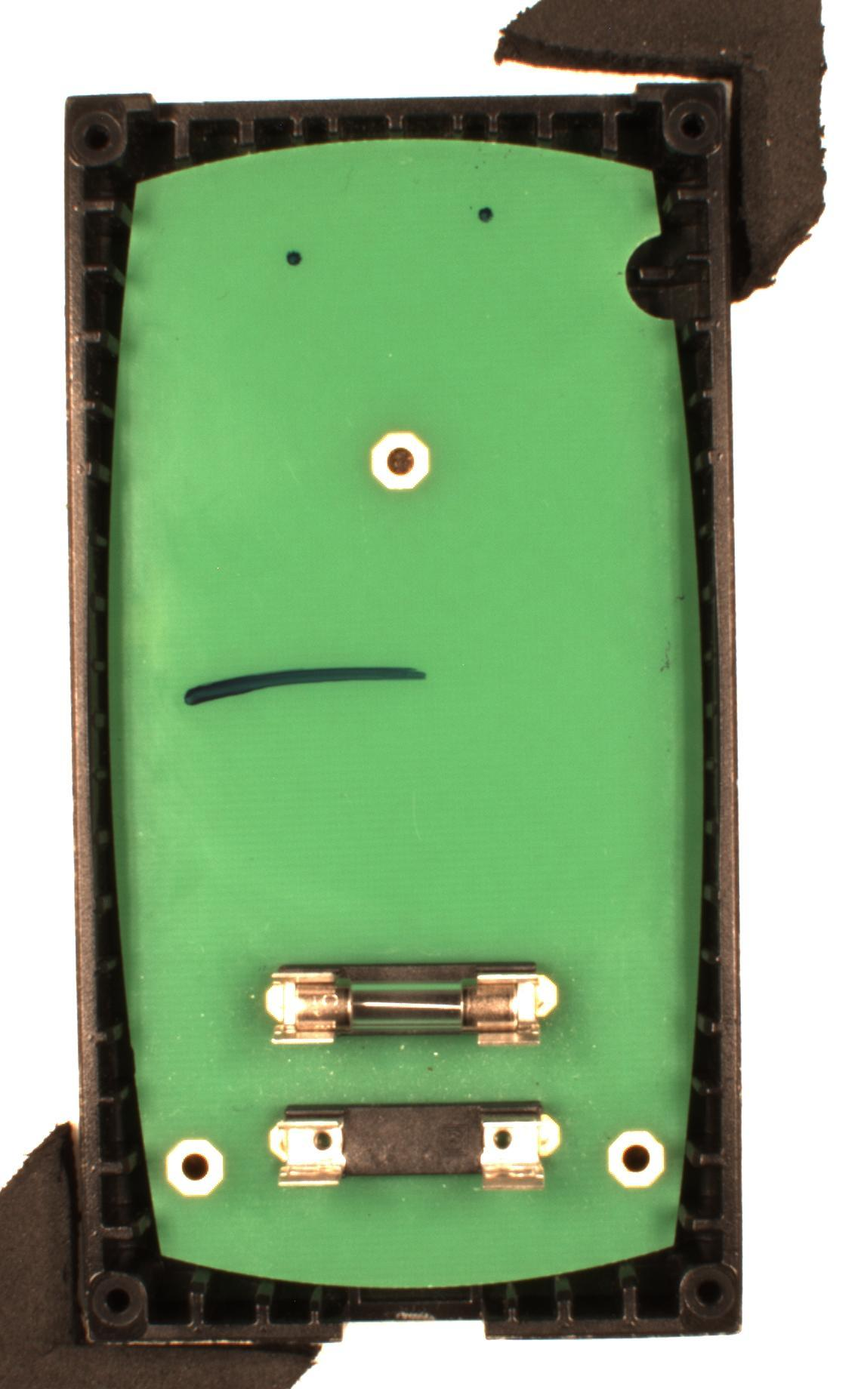Linijsko Ostecene: (183, 658, 431, 710)
Nepostojanje osiguraca: (266, 1099, 562, 1195)
Tockasto Ostecenje: (476, 203, 497, 225), (285, 247, 305, 268)
